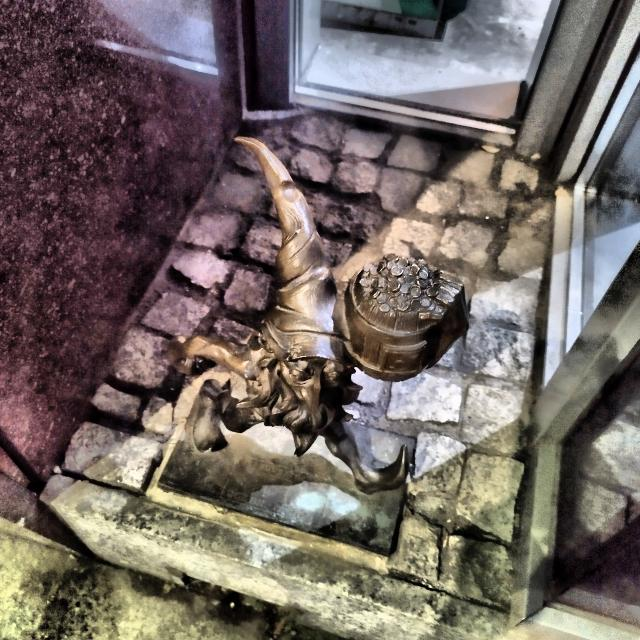Leprykonus: (173, 124, 486, 514)
